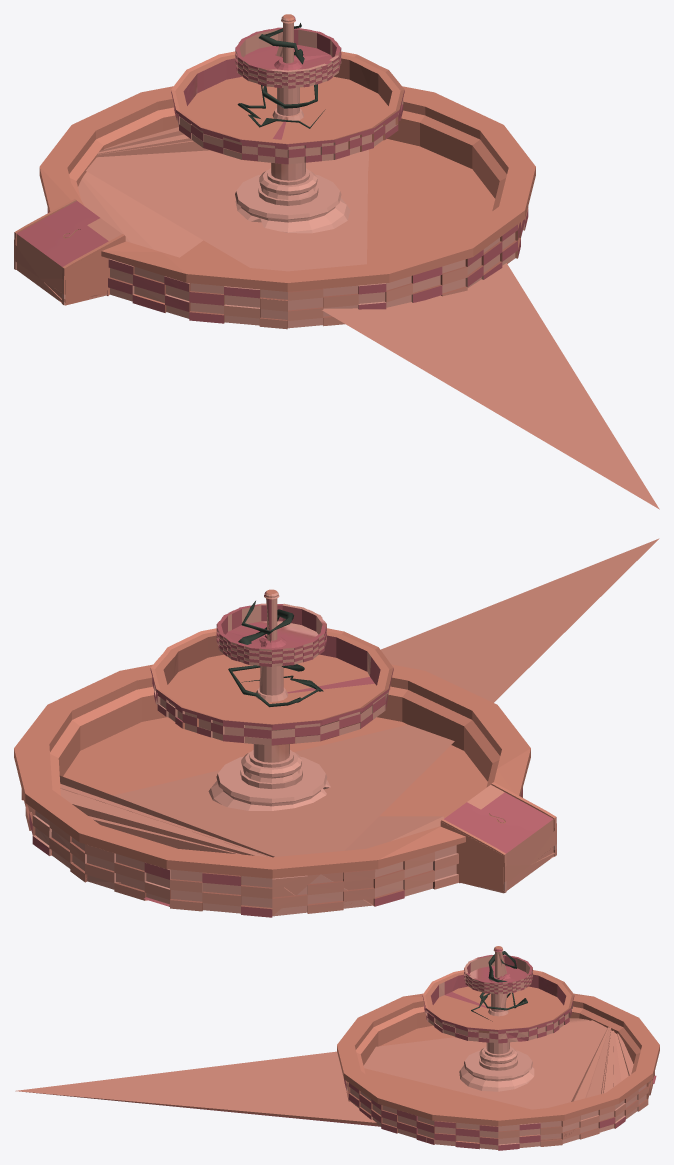
3 renders of one model, top to bottom at view 1: azimuth 30°, elevation 25°; view 2: azimuth 150°, elevation 25°; view 3: azimuth 270°, elevation 25°, orthographic. The views are drawn at different scales.
Parts seen in each view (by area): view 1: pCylinder6, pasted__sweep4; view 2: pCylinder6, pasted__sweep4; view 3: pCylinder6, pasted__sweep4.
Part boxes in pixels (bbox=[...]): pCylinder6: bbox=[14, 14, 659, 509]; pasted__sweep4: bbox=[237, 23, 325, 128]; pCylinder6: bbox=[14, 538, 659, 917]; pasted__sweep4: bbox=[228, 601, 323, 707]; pCylinder6: bbox=[15, 946, 659, 1150]; pasted__sweep4: bbox=[471, 951, 527, 1021].
Bounding box in the file's own units: 17.85 × 8.11 × 33.02.
2 materials, 2 textured.
